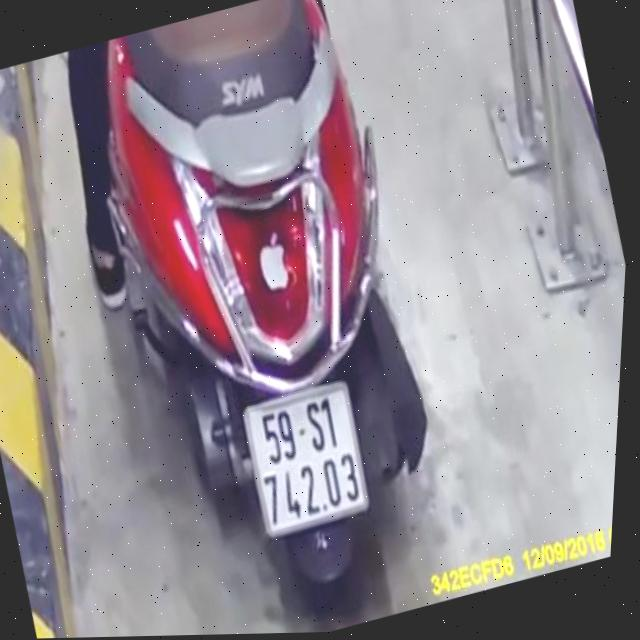motorcycle: (26, 0, 514, 639)
plate: (227, 371, 381, 540)
